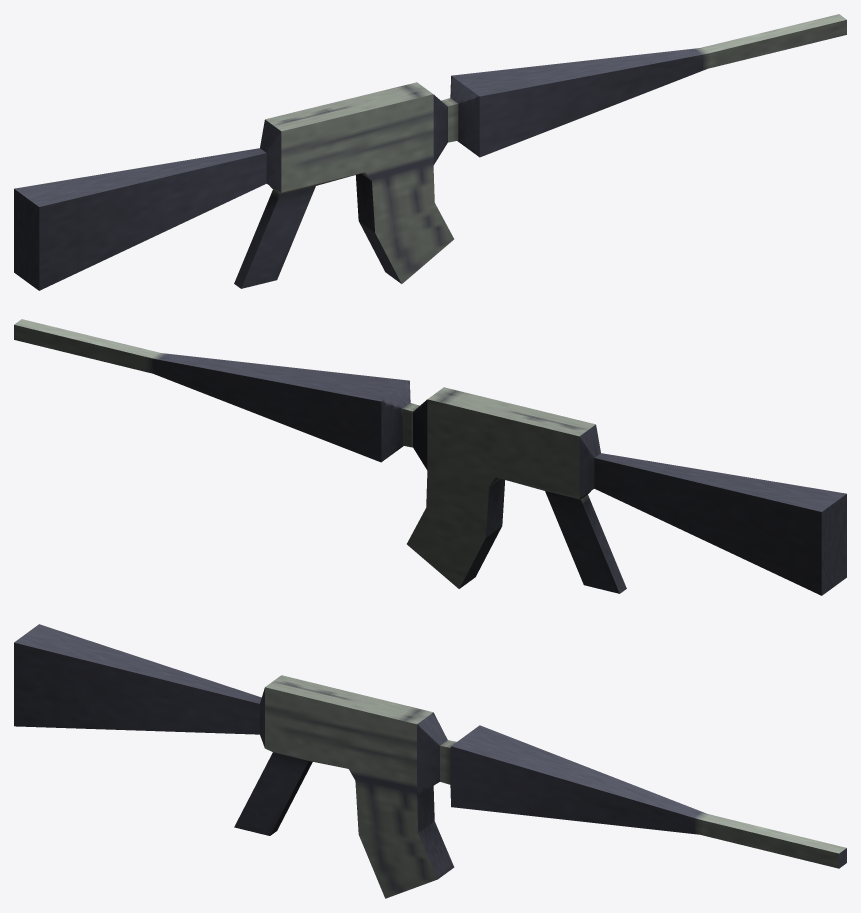
The picture shows the model from 3 angles, top to bottom: view 1: azimuth 30°, elevation 25°; view 2: azimuth 150°, elevation 25°; view 3: azimuth 330°, elevation 25°; orthographic projection.
Visible parts, largest first — view 1: gun.001; view 2: gun.001; view 3: gun.001.
Part boxes in pixels (<box>): gun.001: <box>14,14,846,290</box>; gun.001: <box>14,319,846,595</box>; gun.001: <box>14,624,846,898</box>.
Bounding box in the file's own units: 1.01 × 0.2151 × 0.0613.
